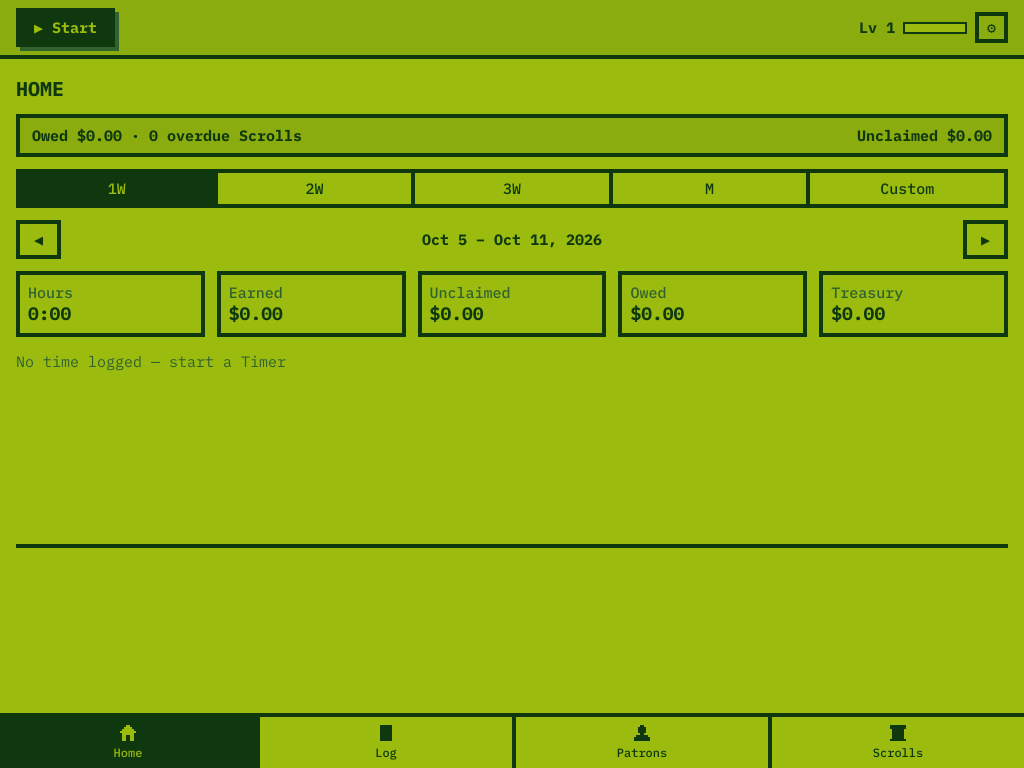
Test: Log › shows the core's validation message on its field
The width and height of the screenshot is (1024, 768).
Click the tab "Log": (384, 742) [256,717,512,767]
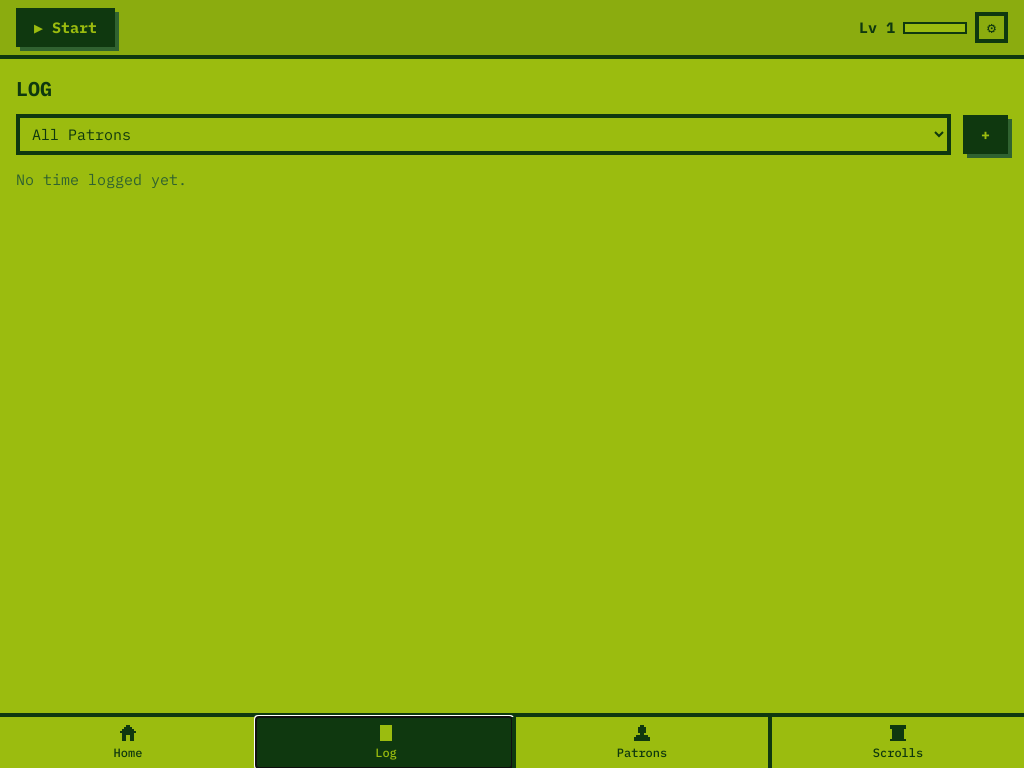
Click the button named "New time entry": (986, 134) [963,115,1008,154]
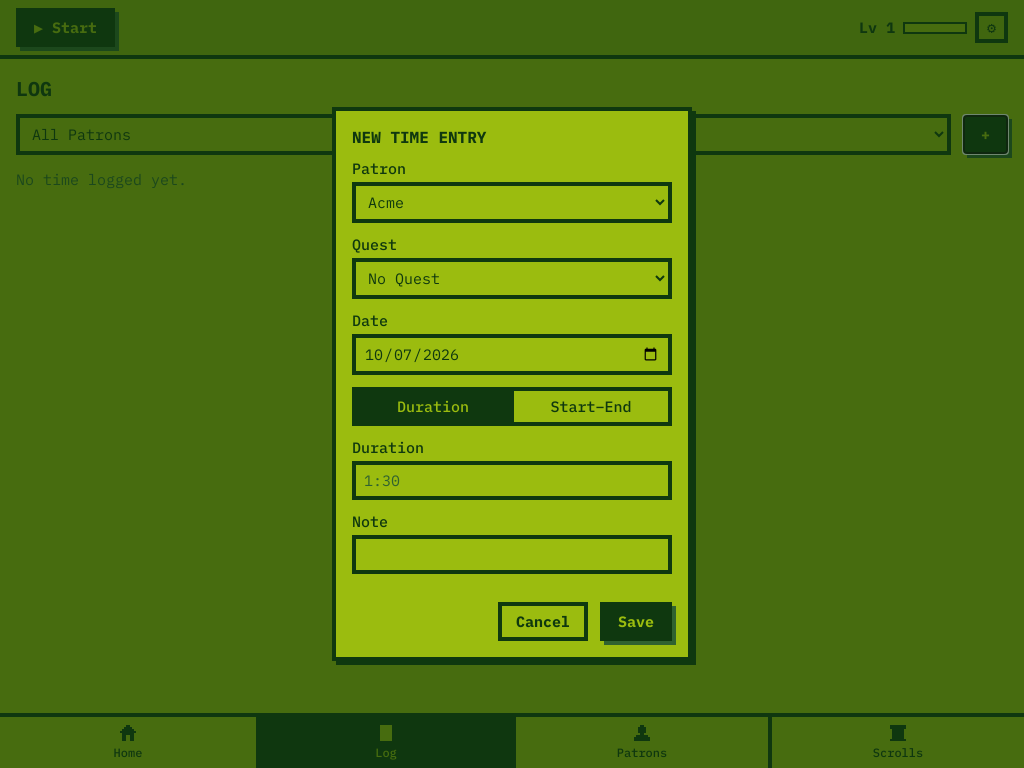
Click the button "Save": (636, 622) [600,602,672,641]
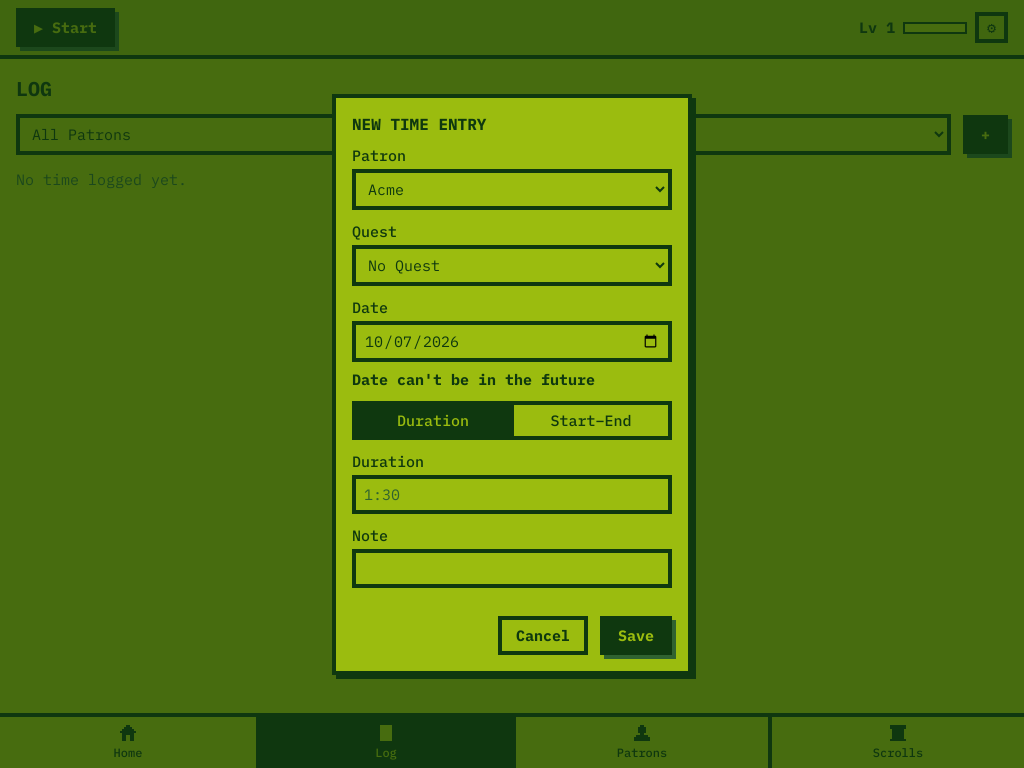
Now the text "Date can't be in the future" is shown, box [352,370,595,388]
